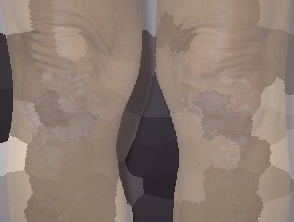vitiligo: (164, 49, 294, 188), (2, 48, 123, 182)
